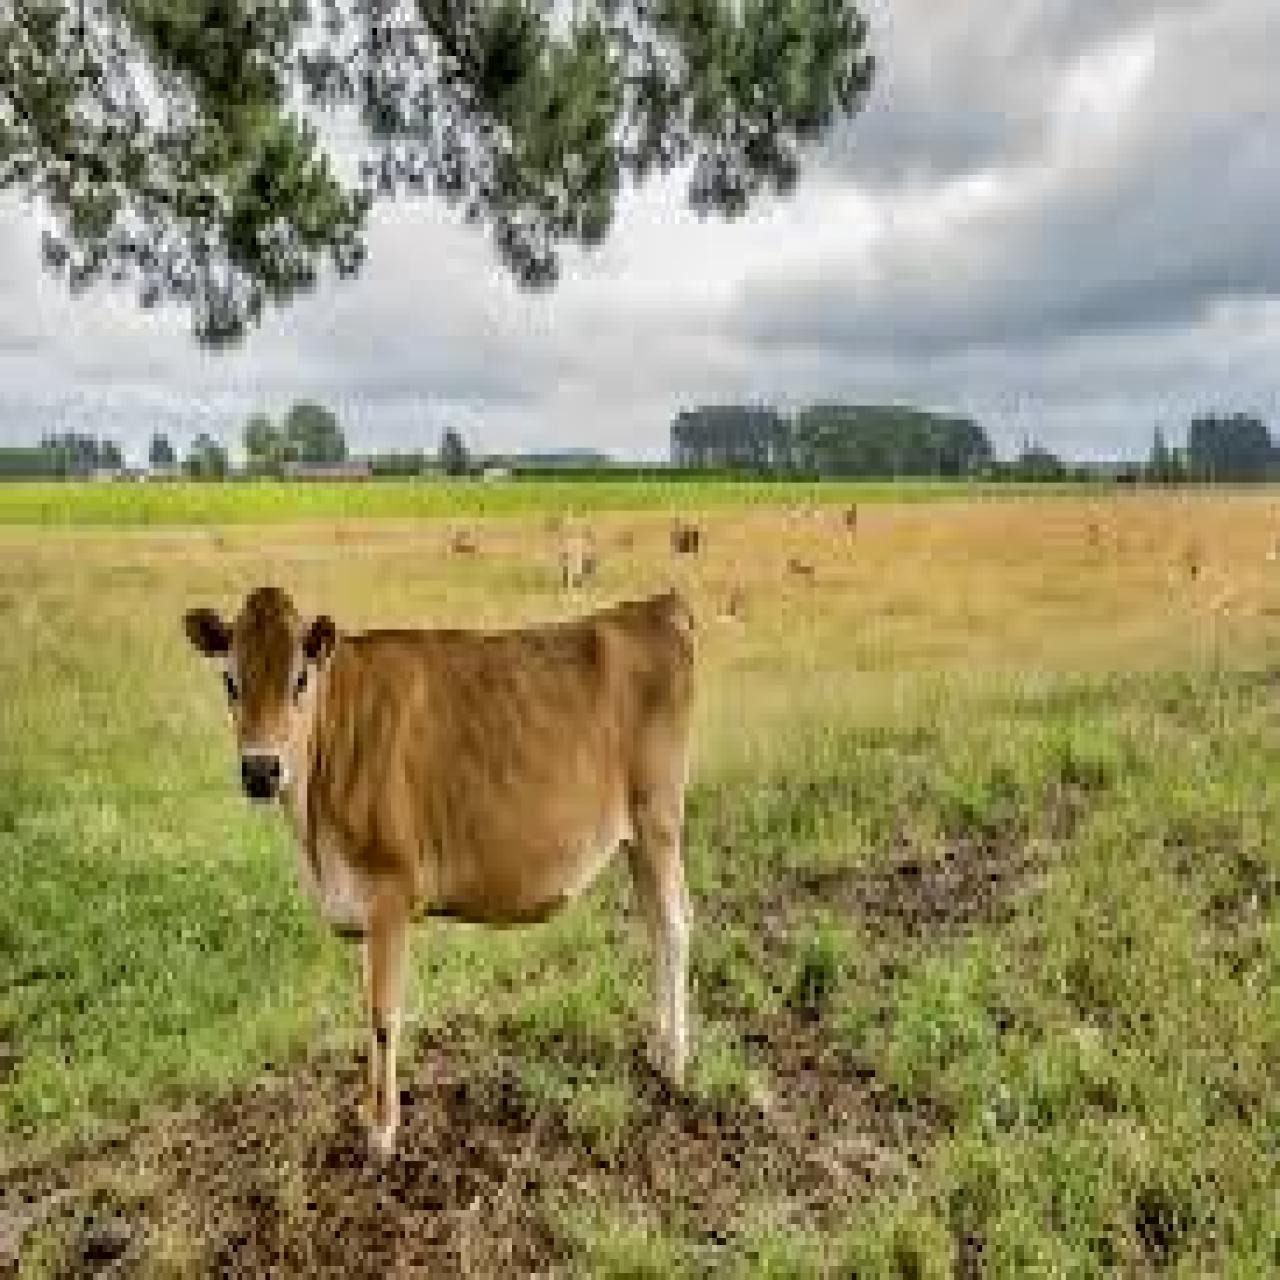cow: (184, 580, 700, 1190)
